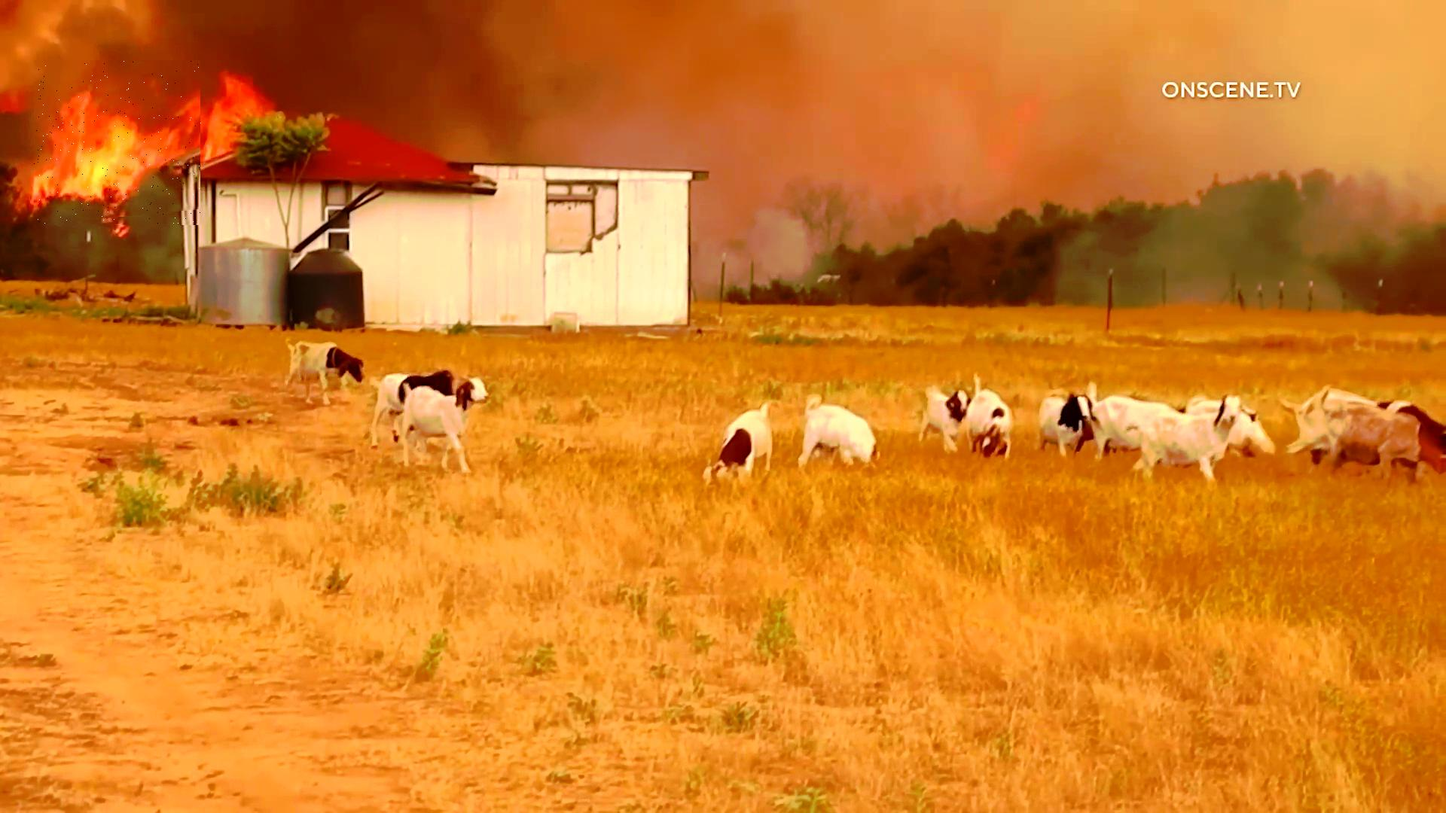fire: (35, 60, 203, 225)
